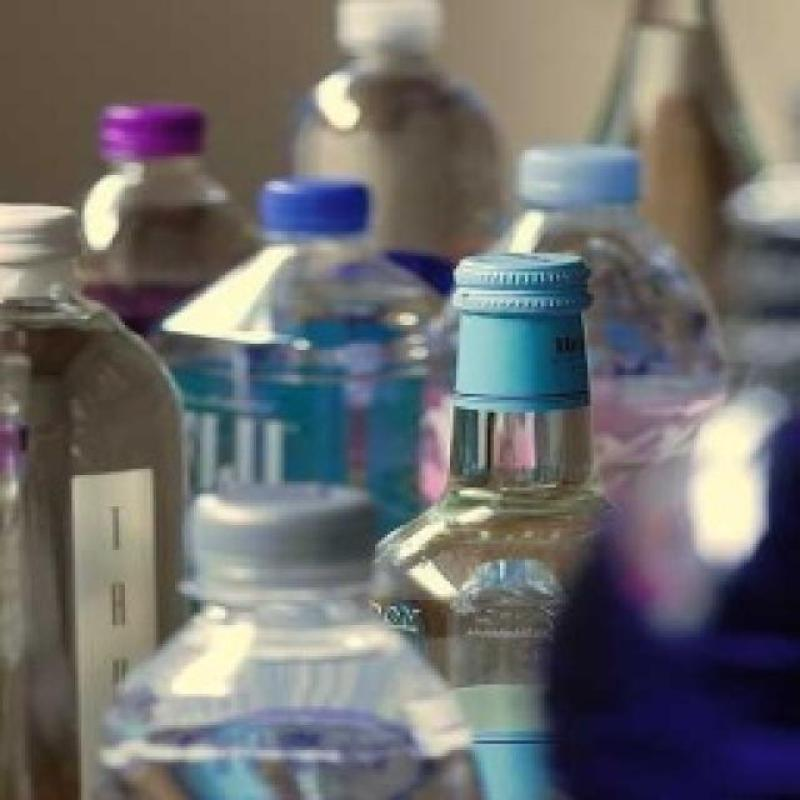botella: (89, 481, 489, 800), (152, 178, 458, 572), (425, 145, 737, 514), (283, 0, 512, 302), (76, 97, 264, 341)
